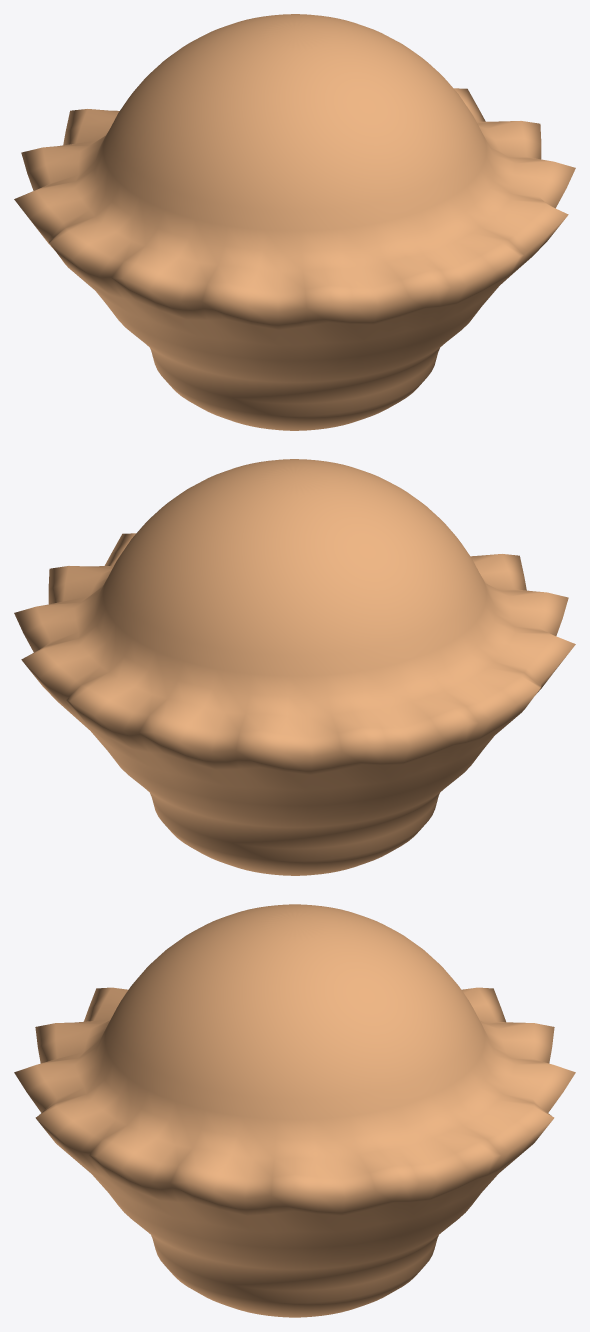
File: normal.fbx
3 views of the same model, one above another, from view 1: azimuth 30°, elevation 25°; view 2: azimuth 150°, elevation 25°; view 3: azimuth 270°, elevation 25° (orthographic).
Visible parts, largest first — view 1: Sphere; view 2: Sphere; view 3: Sphere.
Part boxes in pixels (bbox=[...]): Sphere: bbox=[14, 14, 575, 430]; Sphere: bbox=[14, 459, 575, 875]; Sphere: bbox=[14, 904, 575, 1317].
Bounding box in the file's own units: 145 × 107 × 145.
